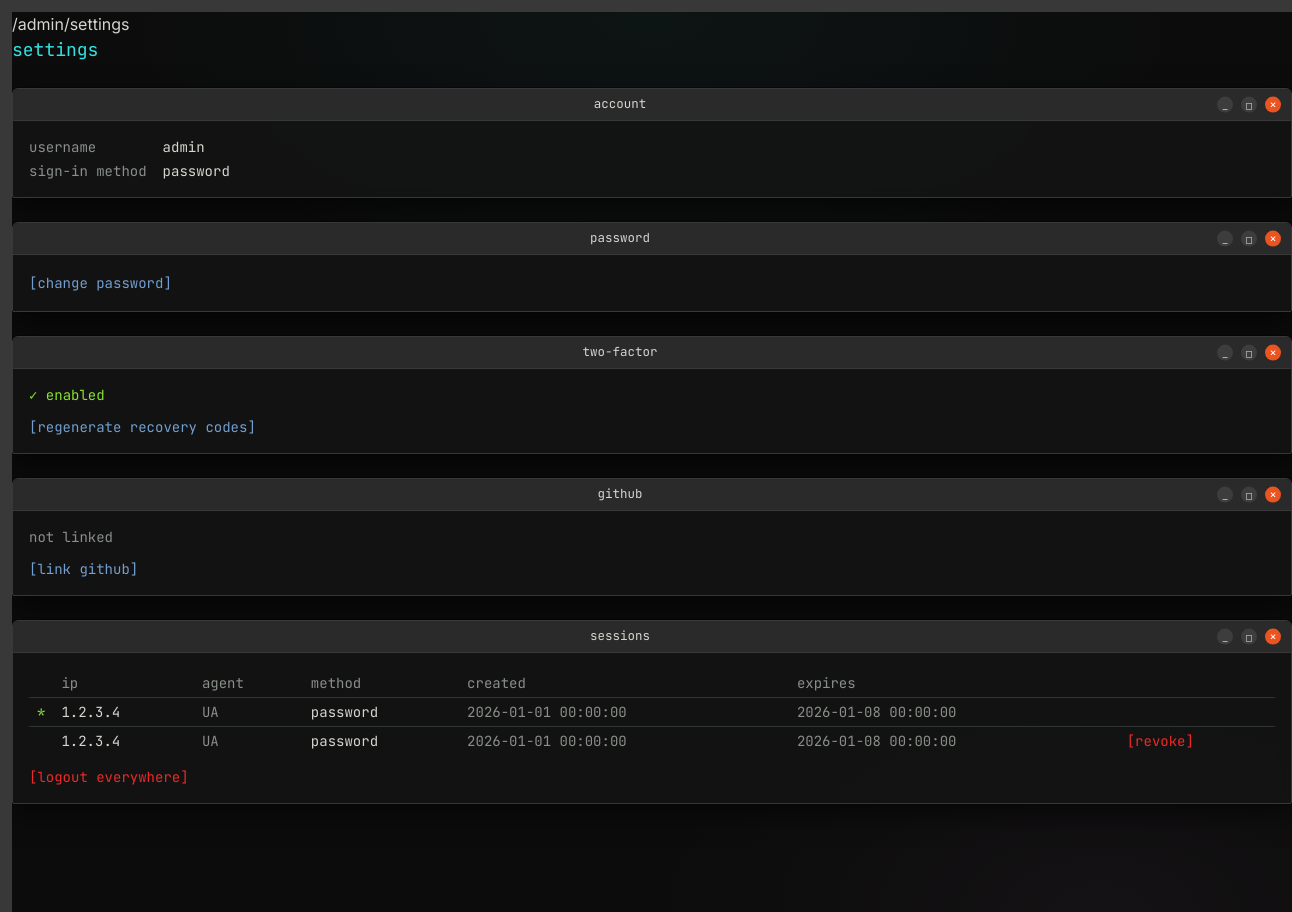
shows a translated error for a wrong link code
Click the button "[link github]" at [84, 569], box top-left (29, 559), bottom-right (138, 579)
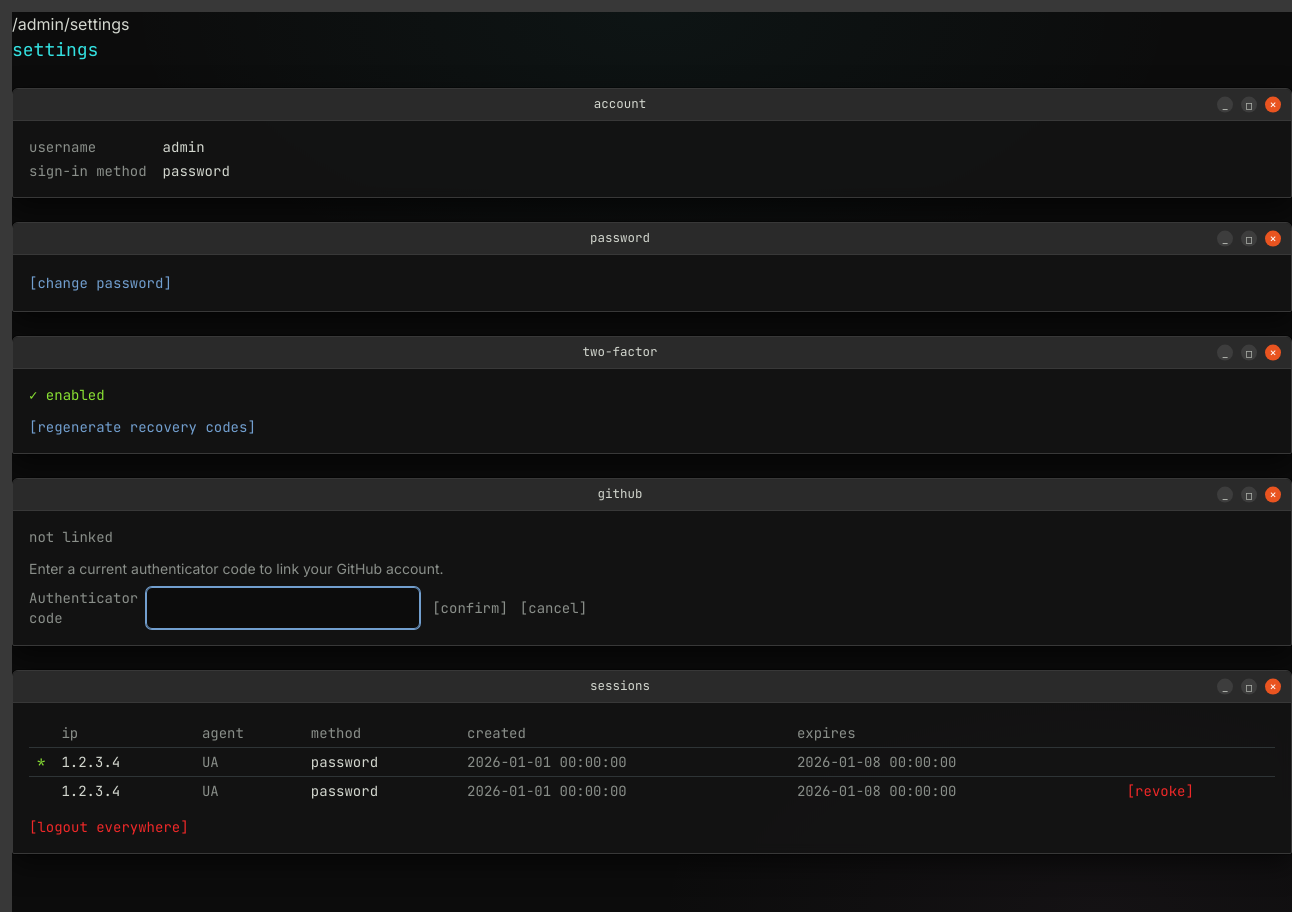
Type "000000" into the field labelled "Authenticator code" at [283, 608], box top-left (146, 587), bottom-right (420, 629)
Then press Enter
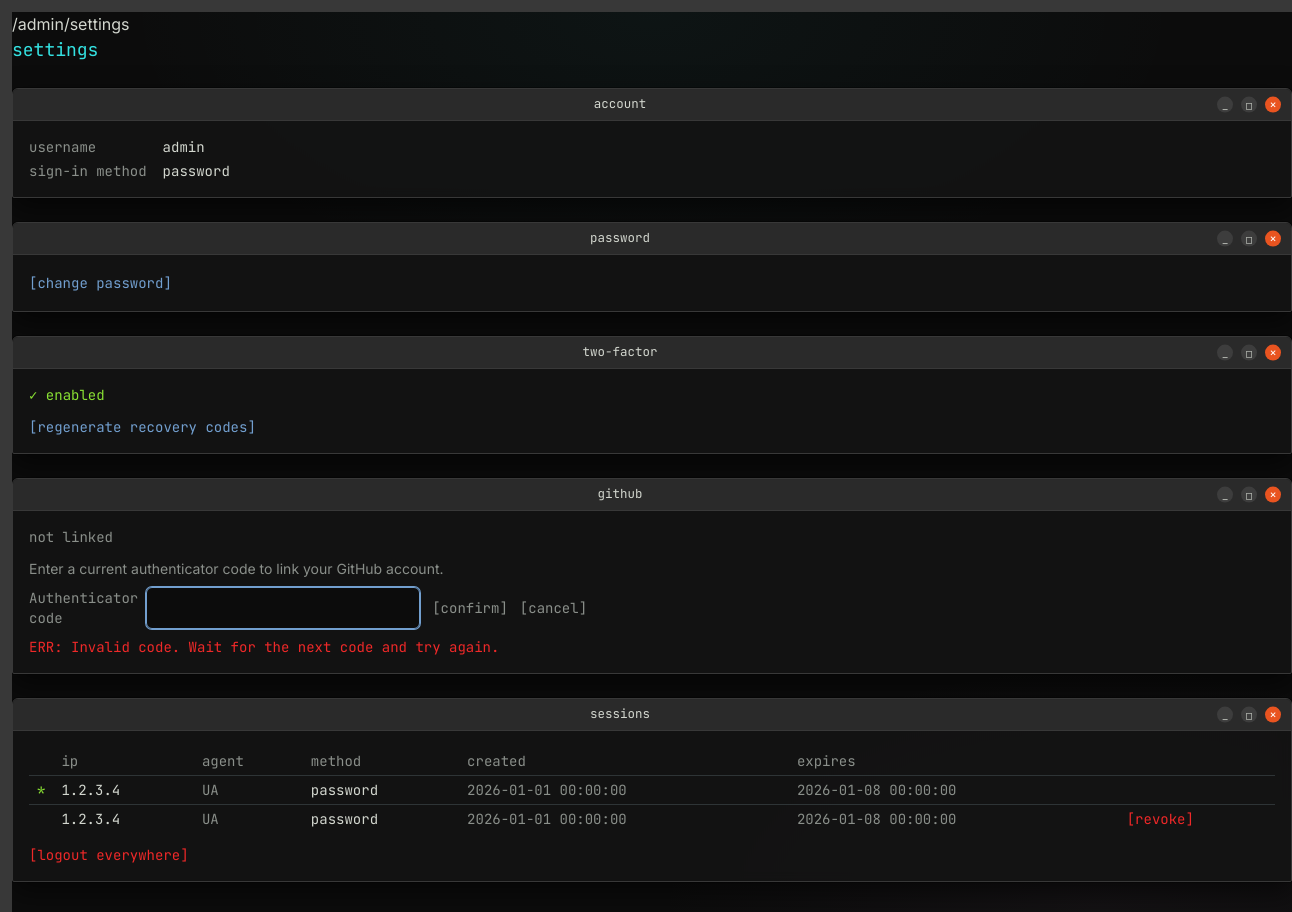
Result: the message shows "Invalid code. Wait for the next code" at top-left (71, 638), bottom-right (499, 656)
